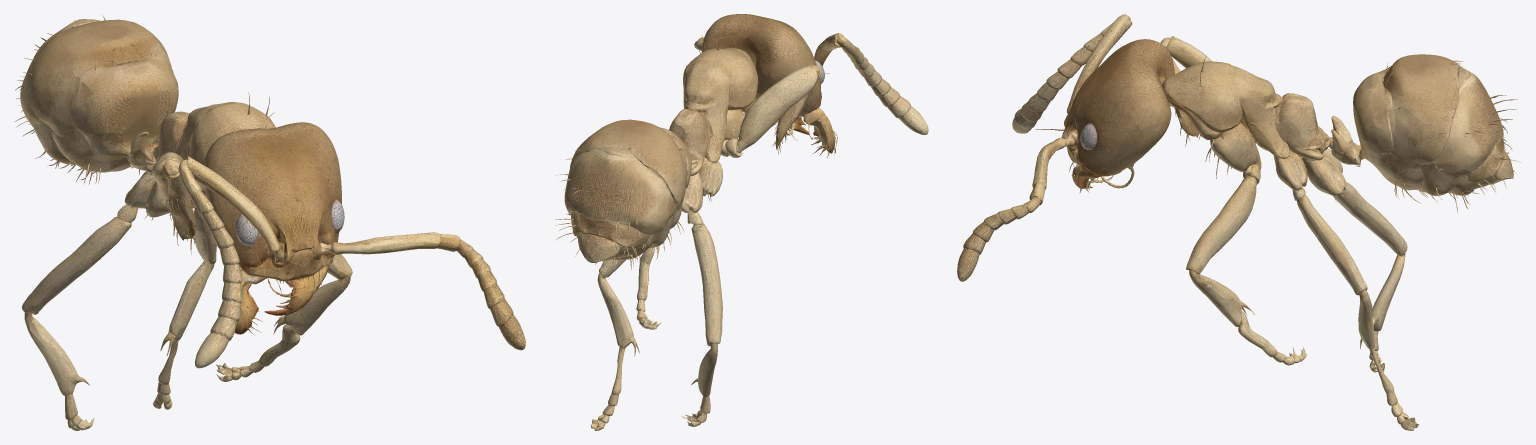
The model's file is esp6.glb.
3 renders of one model, left to right at view 1: azimuth 30°, elevation 25°; view 2: azimuth 150°, elevation 25°; view 3: azimuth 270°, elevation 25°, orthographic. The views are drawn at different scales.
Parts seen in each view (by area): view 1: output_unwrapped; view 2: output_unwrapped; view 3: output_unwrapped.
Boxes of the visible parts, x1=… form: output_unwrapped: x1=14, y1=15, x2=525, y2=430; output_unwrapped: x1=555, y1=14, x2=928, y2=430; output_unwrapped: x1=957, y1=14, x2=1520, y2=430.
Bounding box in the file's own units: 1.03 × 1.35 × 1.91.
Materials: 1 (1 with a texture image).
